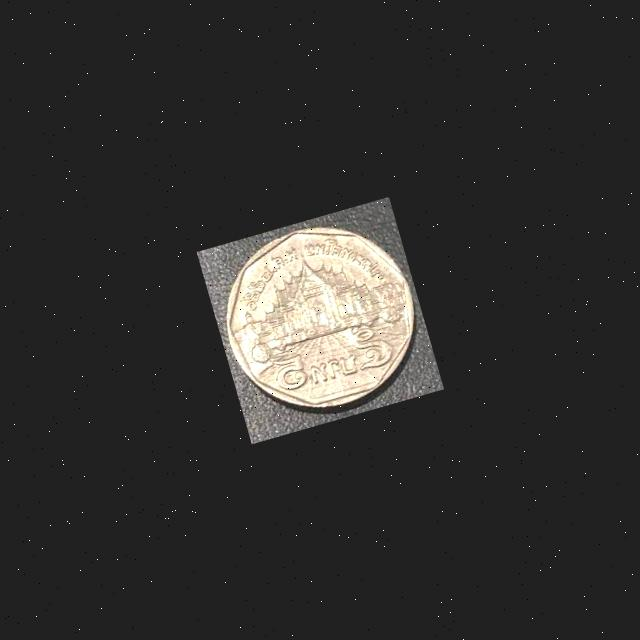5-baht: (196, 196, 443, 442)
